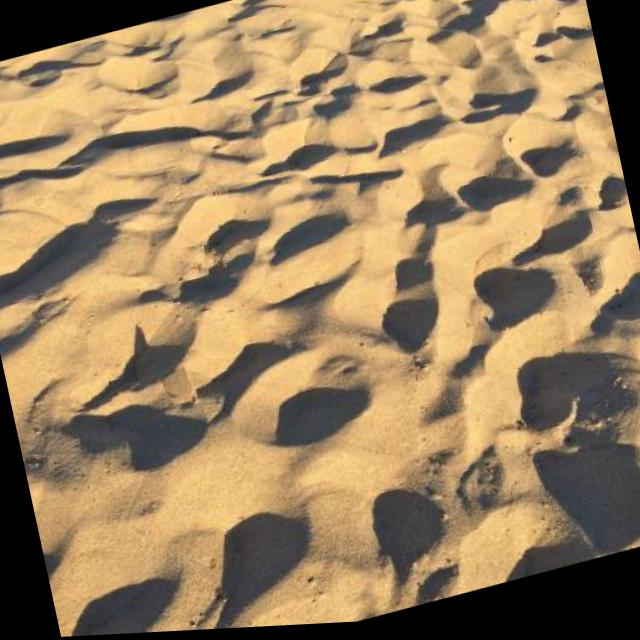cardboard: (159, 364, 199, 410)
